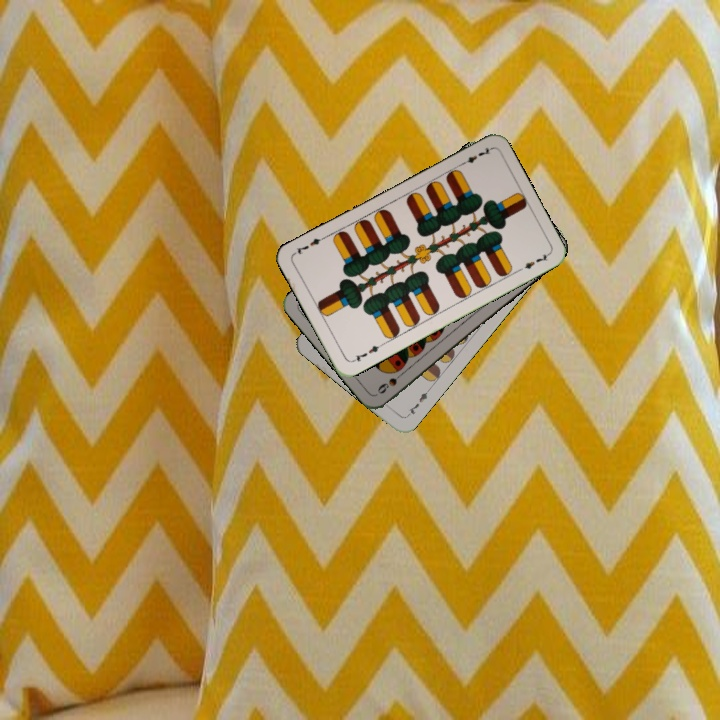E7: (403, 385, 433, 420), (456, 143, 494, 168), (348, 340, 385, 365)
S9: (373, 367, 408, 397)
